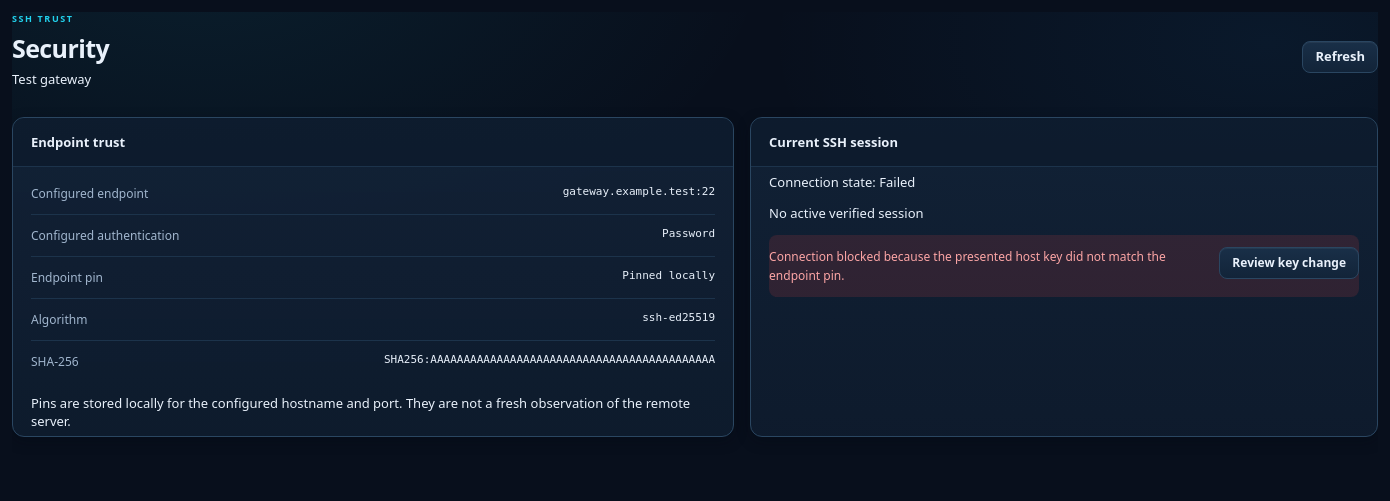
Test: guided local host-key rotation › rejects plan owner mismatches and ignores delayed response after session turnover
This screenshot has width=1390, height=501.
Later steps or results of the test are not shown.
Check: the text "Pinned locally" is shown, box top-left (622, 269), bottom-right (715, 286)
Click the button "Review key change". click: click(1289, 263)
box: top-left (1219, 247), bottom-right (1359, 279)
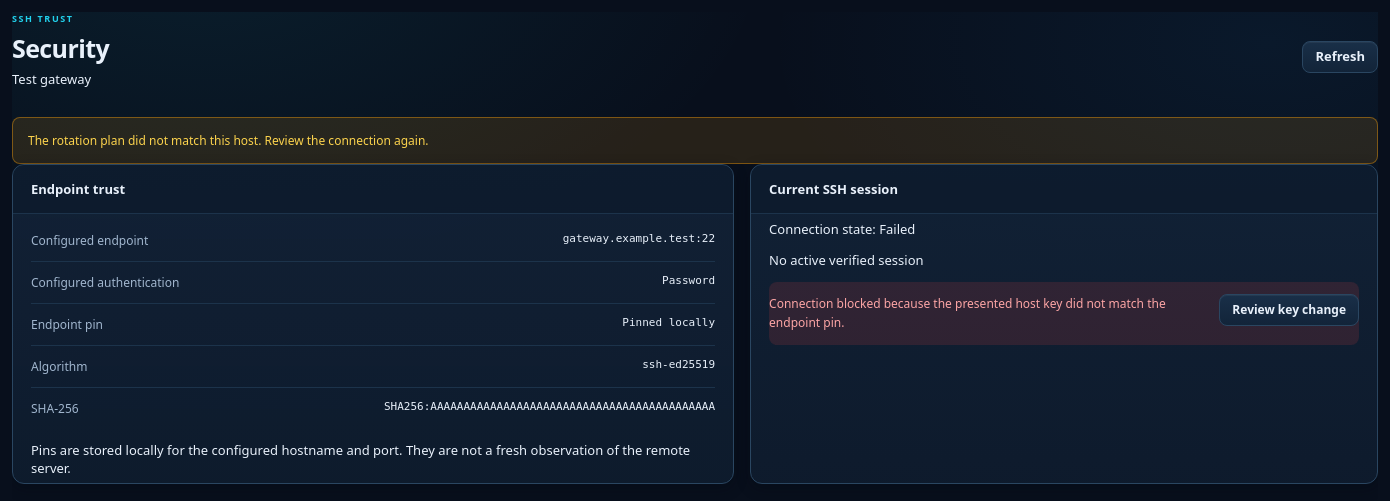
Check: the text "The rotation plan did not match this host. Review the connection again." is shown, box top-left (12, 117), bottom-right (1378, 164)
